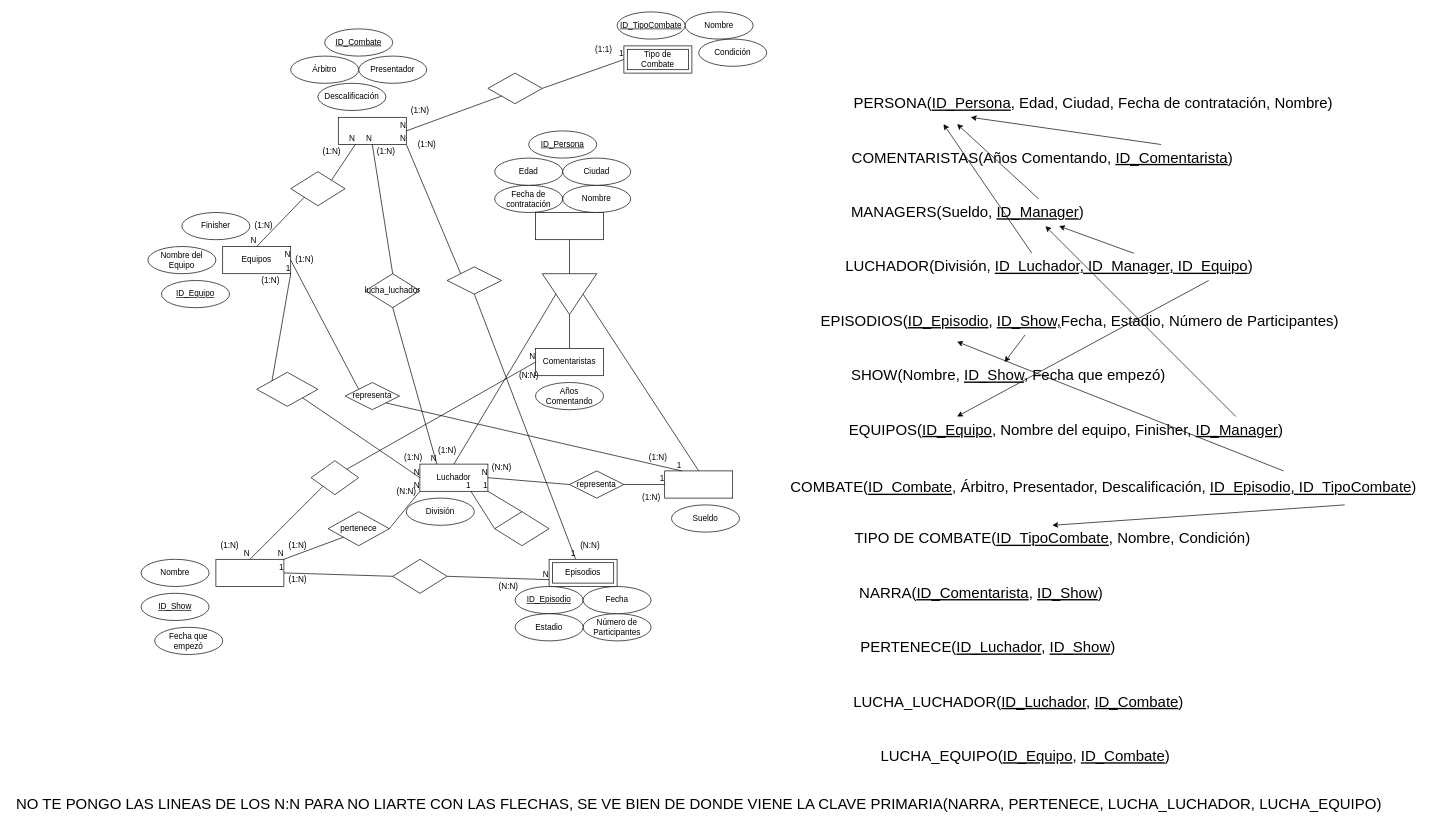
Image size: 1434x825. Some labels were removed from this diagram. The centre of each missing label's shape, as x and y in pixels:
Combate: the point at 372,130
emite: the point at 419,576
es marido de: the point at 521,528
forma: the point at 287,389
formado: the point at 474,280
lucha_equipo: the point at 317,188
Managers: the point at 698,484
narra: the point at 334,477
Persona: the point at 569,226
puede: the point at 514,88
Show: the point at 249,572
